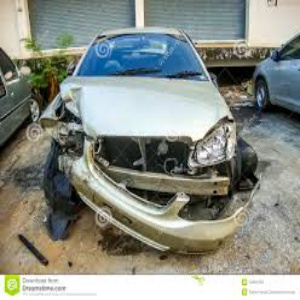bonnet: (54, 76, 218, 135)
bumper: (39, 162, 265, 211)
